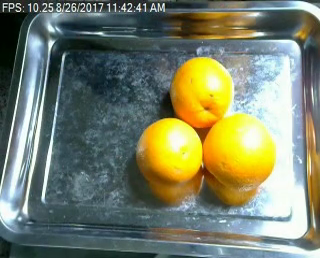Orange: (203, 113, 274, 187), (135, 116, 202, 184), (170, 56, 233, 127)
